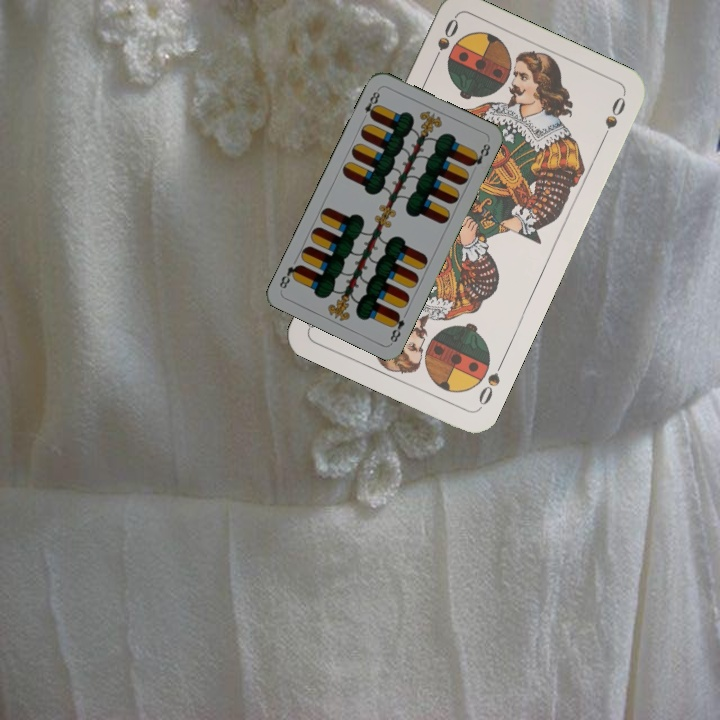E8: (358, 85, 383, 123), (386, 308, 407, 345)
SO: (427, 14, 462, 69), (474, 355, 507, 411)
